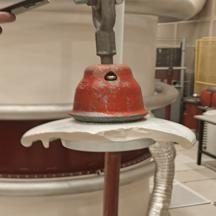insulator: (14, 54, 208, 160)
